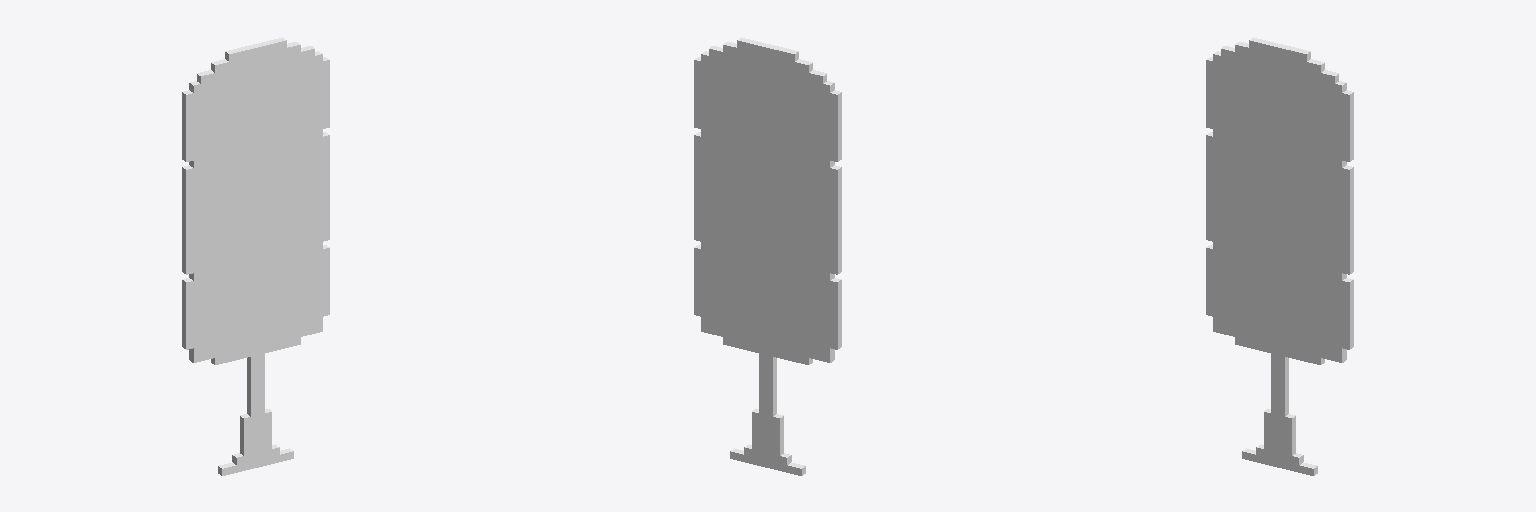
Rendered from tree7.obj.
3 renders of one model, left to right at view 1: azimuth 30°, elevation 25°; view 2: azimuth 150°, elevation 25°; view 3: azimuth 330°, elevation 25°, orthographic.
Parts seen in each view (by area): view 1: object 1; view 2: object 1; view 3: object 1.
Boxes of the visible parts, x1,y1,x2,y2 form: object 1: [182, 37, 329, 475]; object 1: [694, 37, 841, 475]; object 1: [1206, 37, 1353, 475].
Size of the model in its own units: 2 by 5.6 by 0.1.